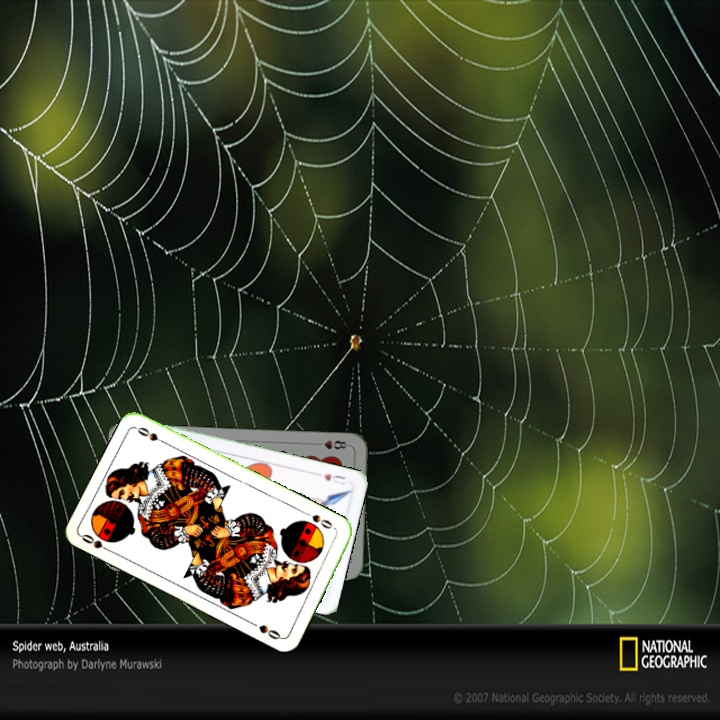H8: (311, 436, 352, 452)
HU: (319, 469, 349, 487)
SO: (77, 530, 116, 556), (308, 510, 335, 531)
